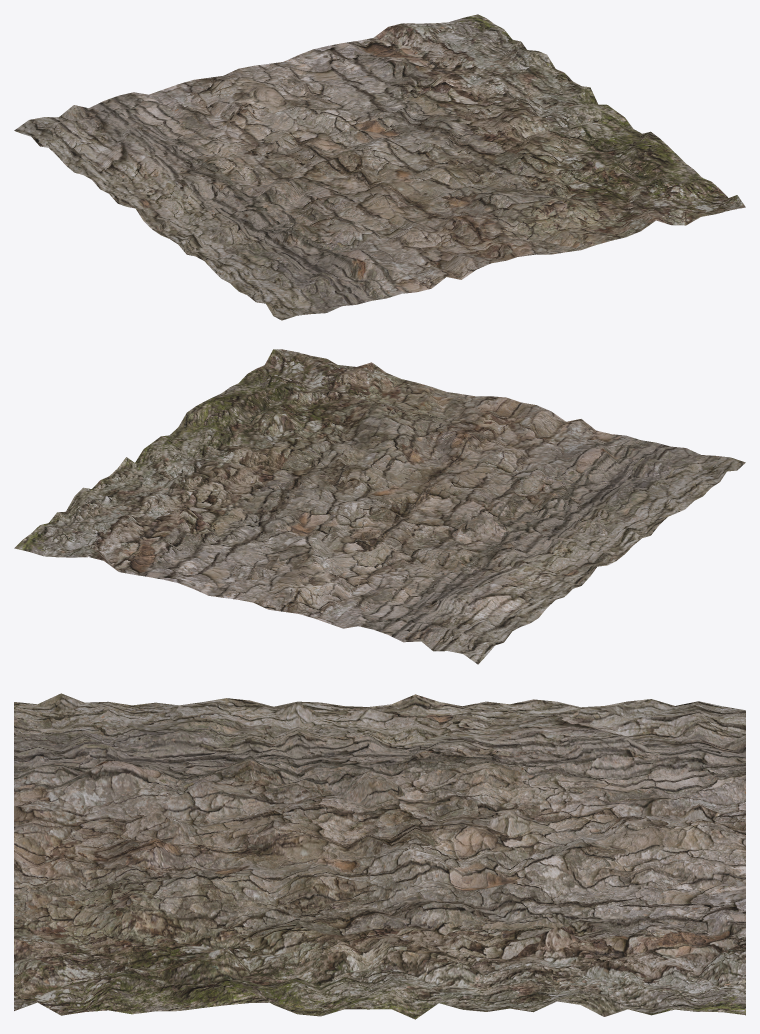
File: terrain.gltf
3 renders of one model, top to bottom at view 1: azimuth 30°, elevation 25°; view 2: azimuth 150°, elevation 25°; view 3: azimuth 270°, elevation 25°, orthographic. The views are drawn at different scales.
Visible parts, largest first — view 1: Plane; view 2: Plane; view 3: Plane.
Part boxes in pixels (x1,y1,x2,y2): Plane: [14, 14, 745, 320]; Plane: [14, 349, 745, 664]; Plane: [14, 693, 745, 1019].
Bounding box in the file's own units: 200 × 7.18 × 200.
1 material, 1 textured.
